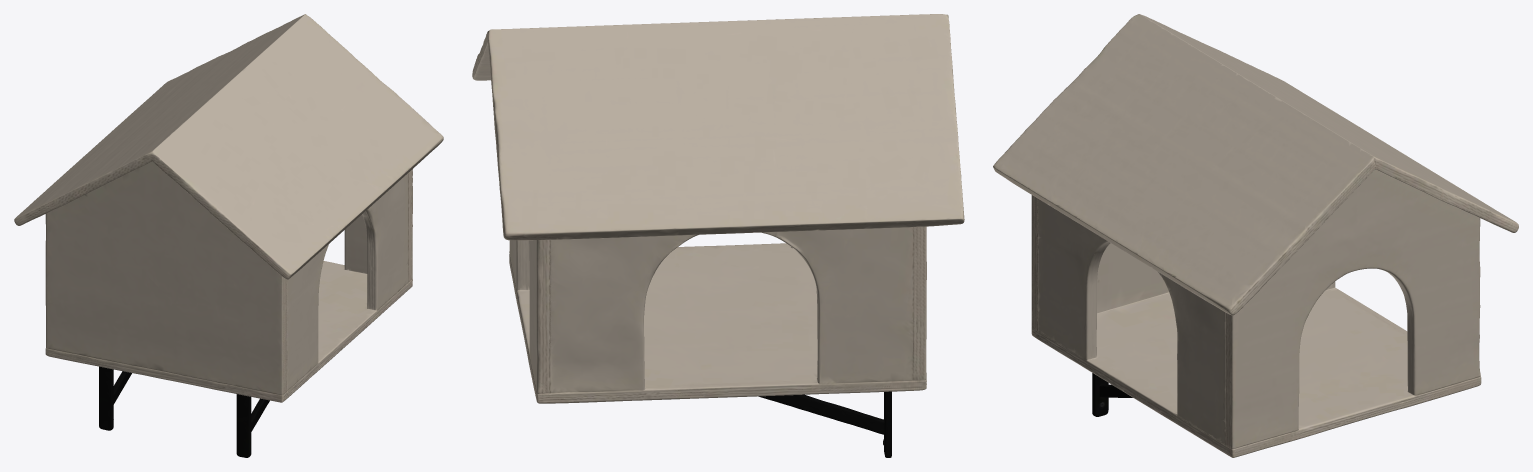
File: casinha-suspensa-telhado.glb
The picture shows the model from 3 angles, left to right: view 1: azimuth 30°, elevation 25°; view 2: azimuth 150°, elevation 25°; view 3: azimuth 270°, elevation 25°; orthographic projection. The views are drawn at different scales.
Visible parts, largest first — view 1: tripo_node_151a3e58-e5bb-4ec9-a70f-1aa576a70a88; view 2: tripo_node_151a3e58-e5bb-4ec9-a70f-1aa576a70a88; view 3: tripo_node_151a3e58-e5bb-4ec9-a70f-1aa576a70a88.
Part boxes in pixels (x1,y1,x2,y2): tripo_node_151a3e58-e5bb-4ec9-a70f-1aa576a70a88: (14,14,443,457); tripo_node_151a3e58-e5bb-4ec9-a70f-1aa576a70a88: (472,14,964,457); tripo_node_151a3e58-e5bb-4ec9-a70f-1aa576a70a88: (993,14,1518,457).
Bounding box in the file's own units: 1.3 × 0.951 × 1.26.
1 material, 1 textured.
